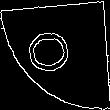O_E: (29, 31, 81, 79)
